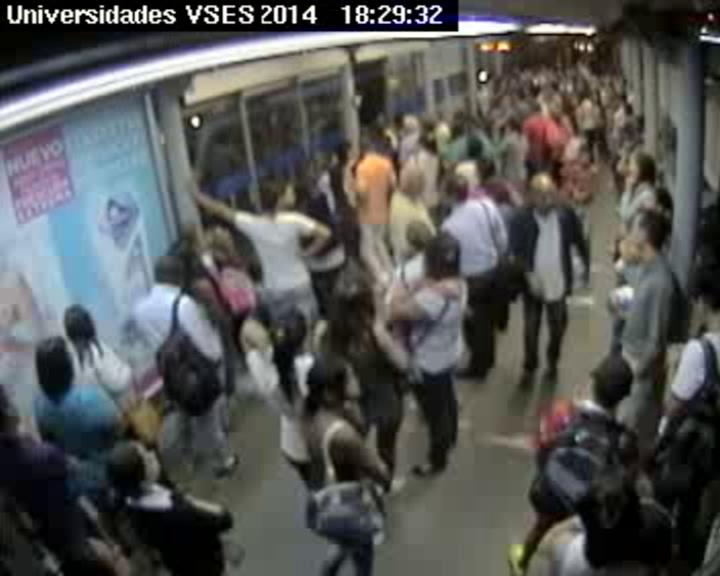person: (602, 496, 670, 571), (106, 441, 160, 498), (306, 356, 359, 412), (585, 351, 634, 406), (673, 270, 720, 326), (31, 338, 79, 392), (331, 277, 376, 326), (268, 310, 308, 352), (631, 208, 668, 251), (60, 303, 97, 345), (525, 171, 561, 212), (425, 235, 461, 276), (154, 254, 187, 288), (169, 240, 201, 271), (438, 175, 469, 206), (207, 227, 239, 257), (399, 163, 427, 193), (265, 179, 295, 207), (644, 188, 669, 219), (179, 221, 207, 248), (307, 164, 333, 192), (203, 197, 228, 226), (629, 154, 654, 182), (305, 194, 330, 219), (406, 223, 430, 248), (485, 177, 510, 201), (474, 158, 494, 180), (244, 260, 264, 279), (576, 148, 594, 167), (552, 98, 569, 115), (366, 126, 383, 143), (421, 115, 438, 131), (338, 144, 354, 161), (527, 80, 543, 96), (363, 141, 379, 157), (468, 141, 483, 157), (403, 116, 418, 132), (424, 131, 439, 147), (581, 125, 595, 141), (392, 114, 405, 129), (528, 100, 543, 112), (521, 67, 533, 81), (452, 113, 464, 127), (578, 92, 590, 105), (498, 95, 510, 108), (451, 126, 463, 139), (556, 68, 568, 80), (589, 91, 601, 103), (549, 80, 560, 93), (598, 73, 609, 85), (621, 126, 632, 138), (505, 119, 516, 131), (554, 56, 565, 67), (623, 105, 633, 117), (569, 67, 579, 78), (512, 90, 522, 101), (475, 81, 485, 92), (537, 64, 547, 74), (610, 66, 619, 77), (618, 94, 627, 105), (510, 66, 518, 75), (577, 55, 585, 64), (495, 79, 503, 88)
